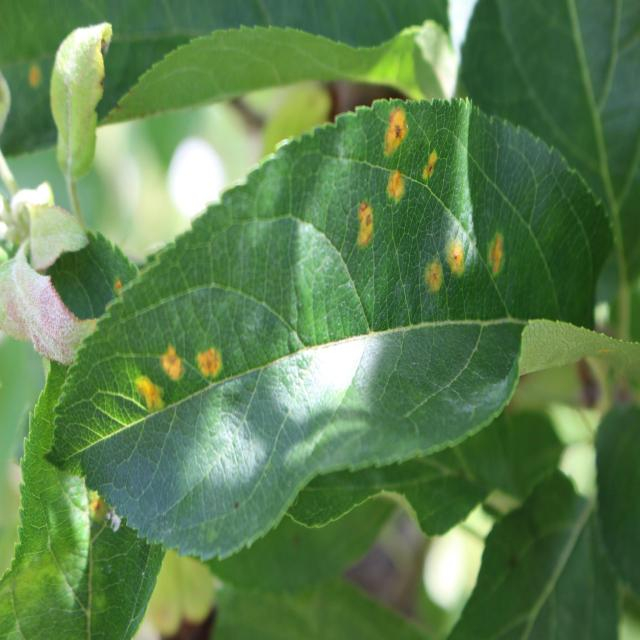Rust: (373, 97, 411, 168), (193, 337, 227, 388), (442, 230, 473, 285), (132, 371, 162, 426), (417, 144, 446, 199), (160, 338, 188, 390), (378, 168, 410, 213), (419, 255, 446, 308), (354, 191, 376, 253), (485, 224, 504, 286), (84, 494, 110, 521), (28, 64, 42, 99), (113, 269, 124, 300)
